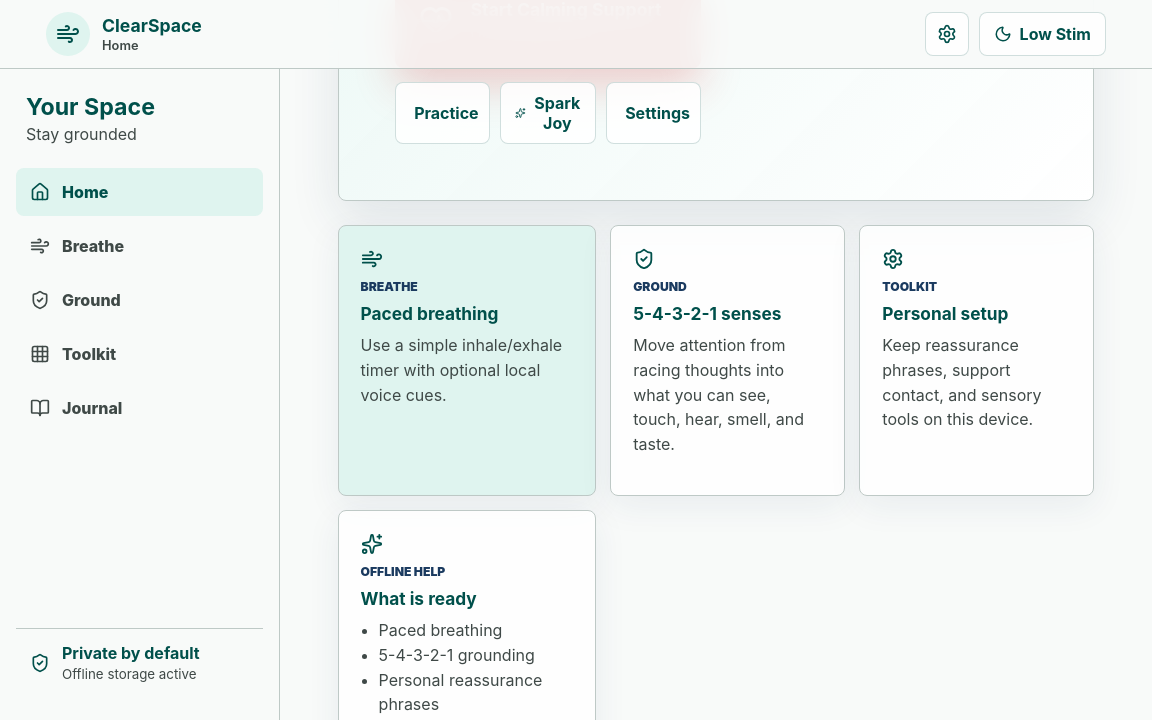
it: App shell › lets the user switch from breathing to grounding when breathing feels uncomfortable
(page scrolled)
Click the button "Paced breathing" at {"x": 467, "y": 360}, box [338,225,596,496]
(page scrolled)
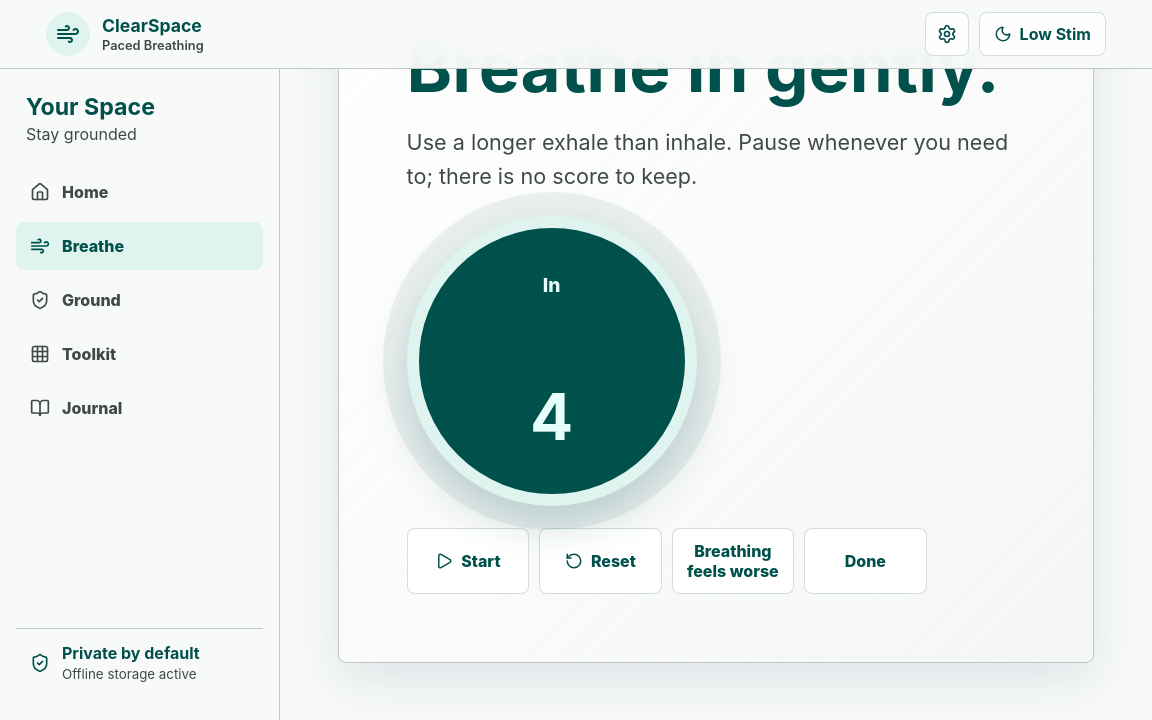
Result: the heading "Breathe in gently." is shown at [407,32,1000,103]
Click the button "Breathing feels worse" at {"x": 733, "y": 561}, box [672,528,794,594]
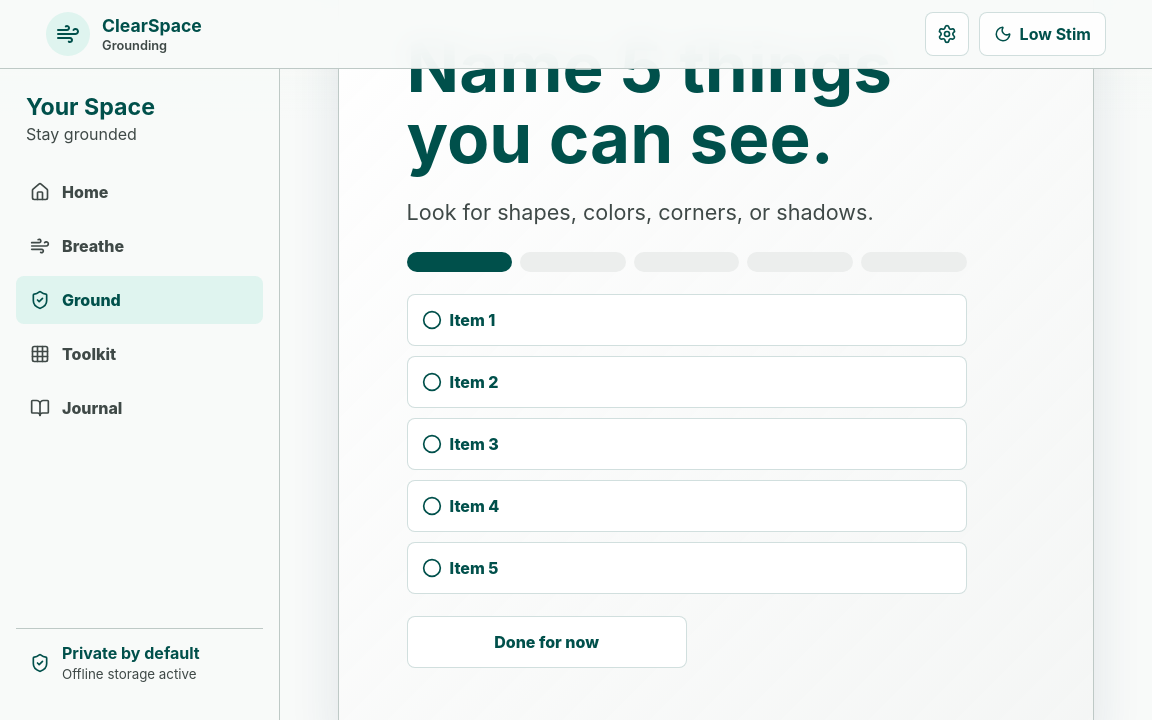
Result: the heading "Name 5 things you can see." is shown at [407,25,892,180]
